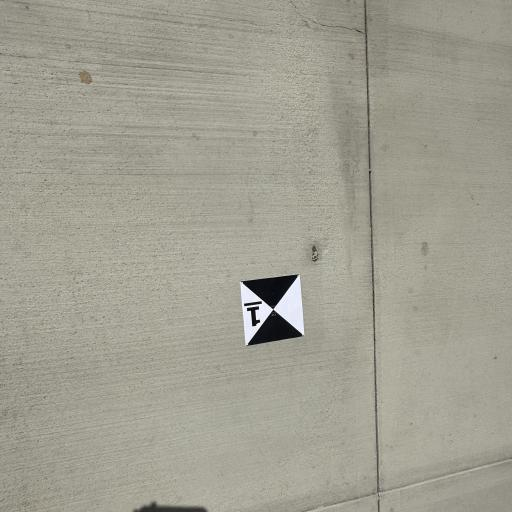target1: (240, 269, 312, 349)
